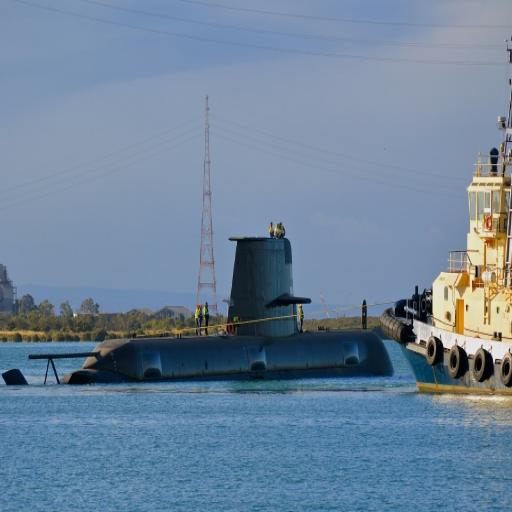submarine: (4, 235, 395, 387)
